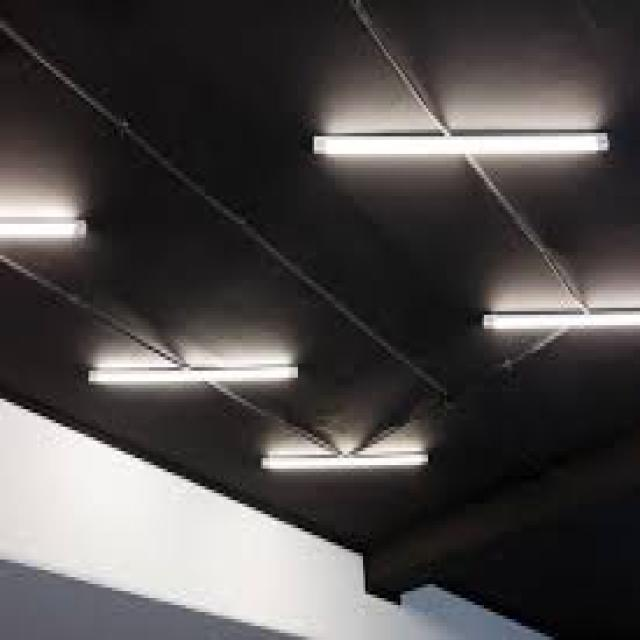tubelight_on: (304, 125, 619, 158), (83, 365, 310, 392), (256, 445, 435, 478), (479, 305, 640, 336), (0, 210, 90, 241)
